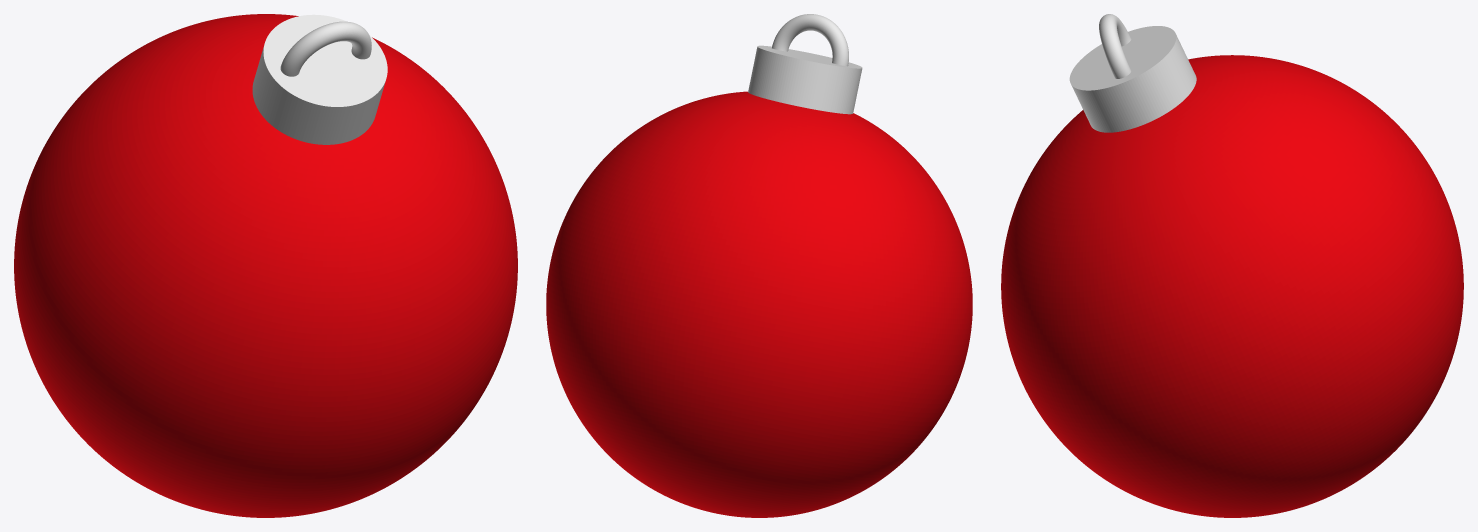
Rendered from balls.fbx.
3 renders of one model, left to right at view 1: azimuth 30°, elevation 25°; view 2: azimuth 150°, elevation 25°; view 3: azimuth 270°, elevation 25°, orthographic. The views are drawn at different scales.
Parts seen in each view (by area): view 1: Sphere, Cylinder, Torus; view 2: Sphere, Cylinder, Torus; view 3: Sphere, Cylinder, Torus.
Boxes of the visible parts, <box> form: Sphere: <box>14,14,517,517</box>; Cylinder: <box>252,14,387,144</box>; Torus: <box>280,21,371,76</box>; Sphere: <box>546,91,972,517</box>; Cylinder: <box>748,45,862,114</box>; Torus: <box>772,14,848,66</box>; Sphere: <box>1001,55,1463,517</box>; Cylinder: <box>1069,26,1196,132</box>; Torus: <box>1099,14,1131,78</box>.
Size of what is drawn, in the model's own units: 200 by 228 by 200.
